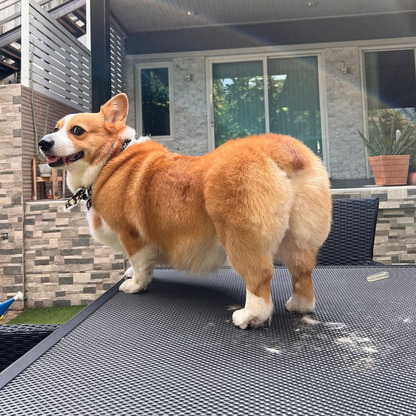Corgi: (35, 91, 340, 327)
